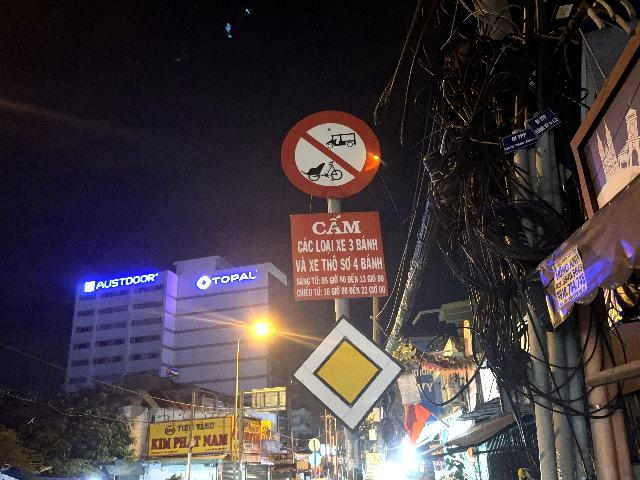bat-dau-duong-uu-tien: (288, 314, 406, 434)
cam-xe-3-banh-xe-tho-so-4-banh: (280, 110, 382, 199)
